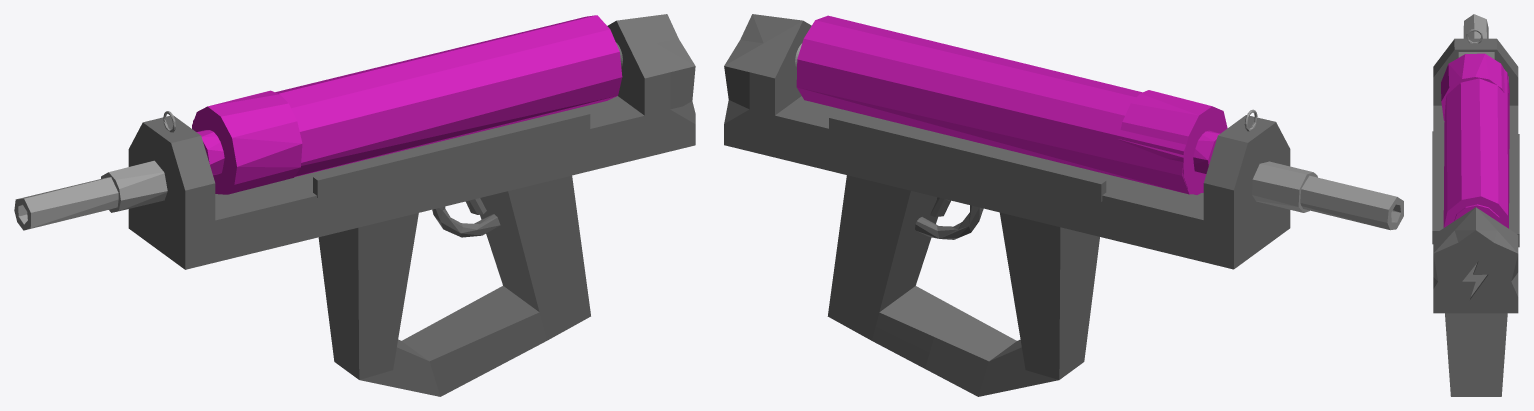
The model's file is gun_purple.fbx.
3 renders of one model, left to right at view 1: azimuth 30°, elevation 25°; view 2: azimuth 150°, elevation 25°; view 3: azimuth 270°, elevation 25°, orthographic. The views are drawn at different scales.
Parts seen in each view (by area): view 1: Cube, Pila, Cube.004, Cylinder.001, Cylinder.002, Torus.001; view 2: Cube, Pila, Cube.004, Cylinder.001, Cylinder.002, Torus.001; view 3: Cube, Pila, Cube.004, Cylinder.001, Cube.001, Torus.
Part boxes in pixels (x1,y1,x2,y2): Cube: (128, 14, 695, 269); Pila: (192, 15, 622, 194); Cube.004: (318, 175, 590, 396); Cylinder.001: (14, 177, 118, 230); Cylinder.002: (101, 160, 167, 212); Torus.001: (432, 206, 500, 237); Cube: (724, 14, 1290, 269); Pila: (796, 15, 1227, 194); Cube.004: (827, 175, 1099, 396); Cylinder.001: (1300, 175, 1403, 230); Cylinder.002: (1252, 161, 1317, 212); Torus.001: (915, 205, 983, 239); Cube: (1432, 38, 1519, 313); Pila: (1441, 53, 1509, 228); Cube.004: (1445, 313, 1507, 396); Cylinder.001: (1463, 14, 1488, 38); Cube.001: (1458, 52, 1494, 59); Torus: (1466, 29, 1482, 43).
Size of the model in its own units: 135 by 67.78 by 21.1.
